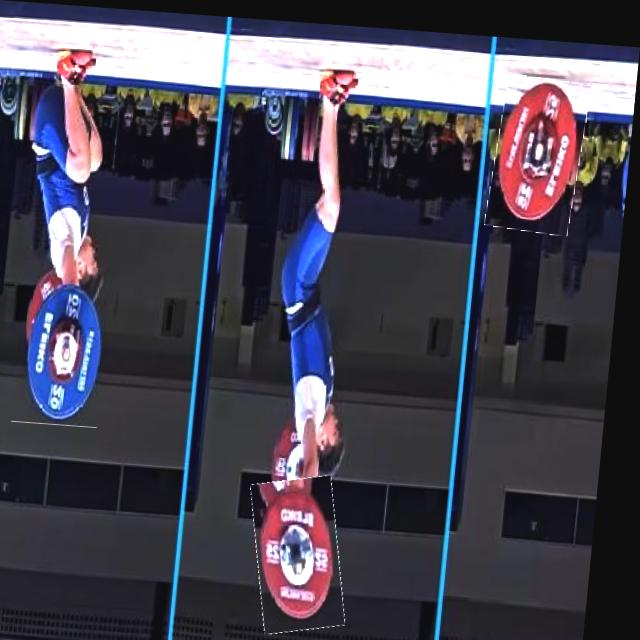barbell: (257, 470, 362, 631), (491, 67, 591, 227), (20, 275, 117, 427)
